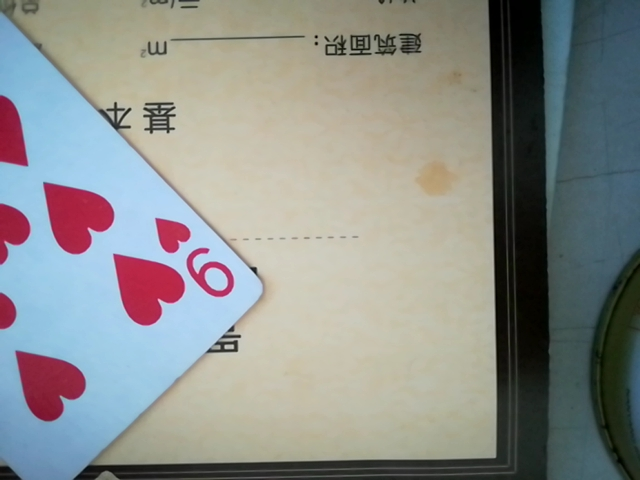hx 9: (0, 3, 269, 472)
